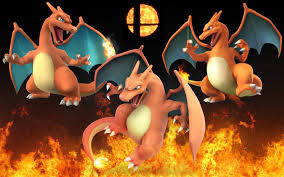charizard: (85, 45, 205, 171), (163, 4, 280, 111), (7, 3, 111, 106)
